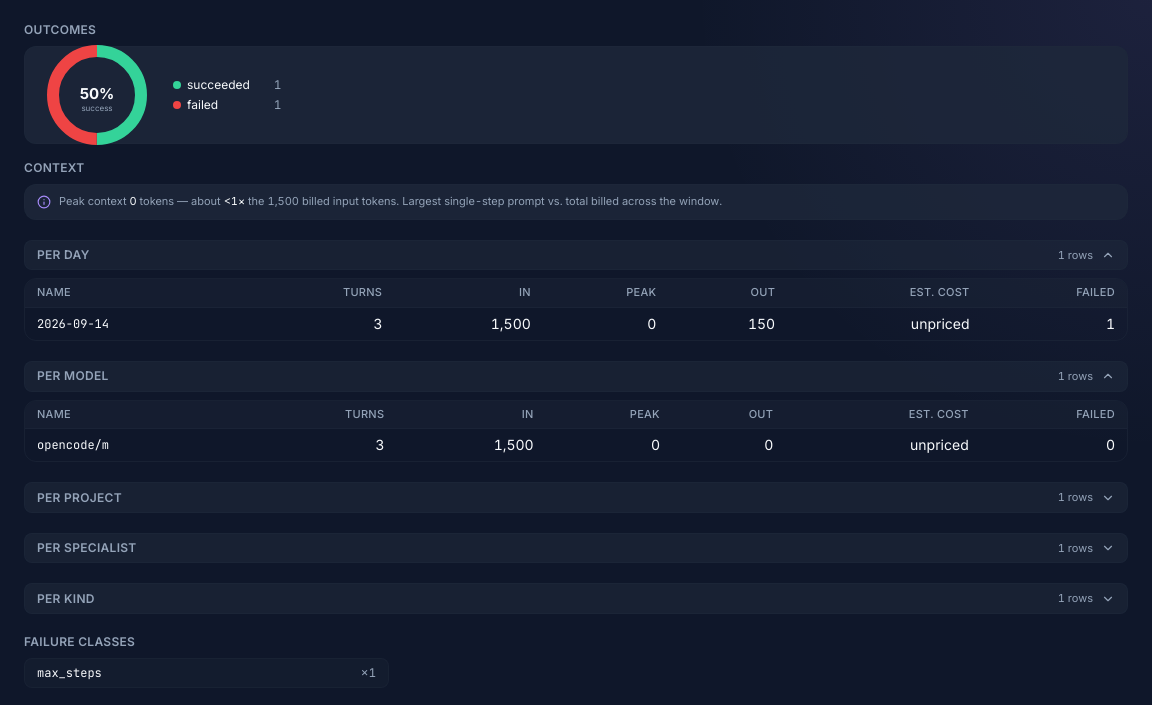
Test: StatsPage › collapses + expands a split table
(page scrolled)
Step 1. Click the button "Per kind 1 rows" → {"x": 66, "y": 598}, box [24,583,1128,614]
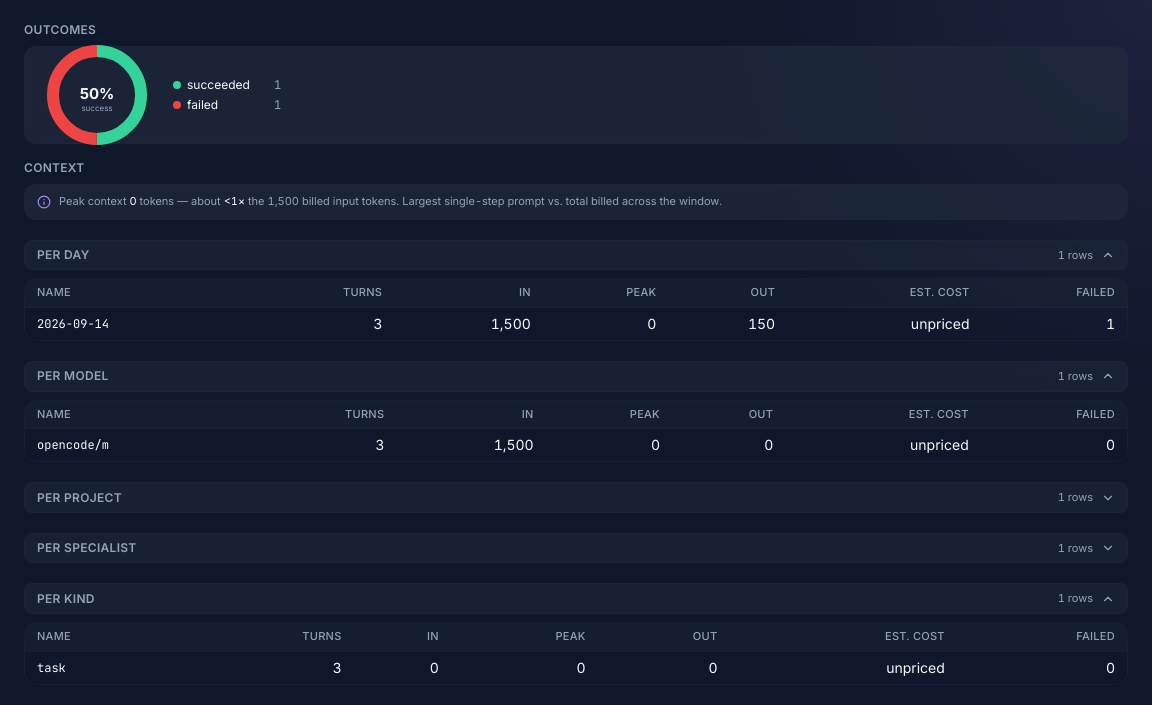
Now the table that starts with "Name" is shown, box [25,623,1127,684]
Now the element with test id "stats-by-kind" shows "task", box [37,660,66,676]
